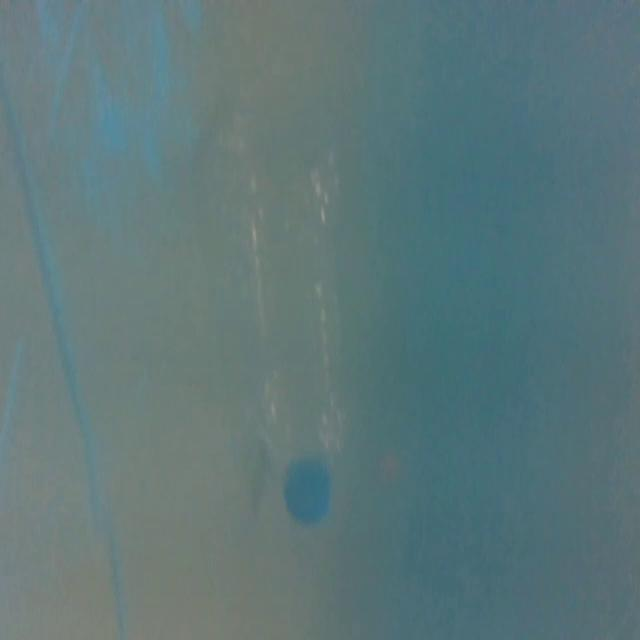plastic bottle: (237, 117, 358, 535)
